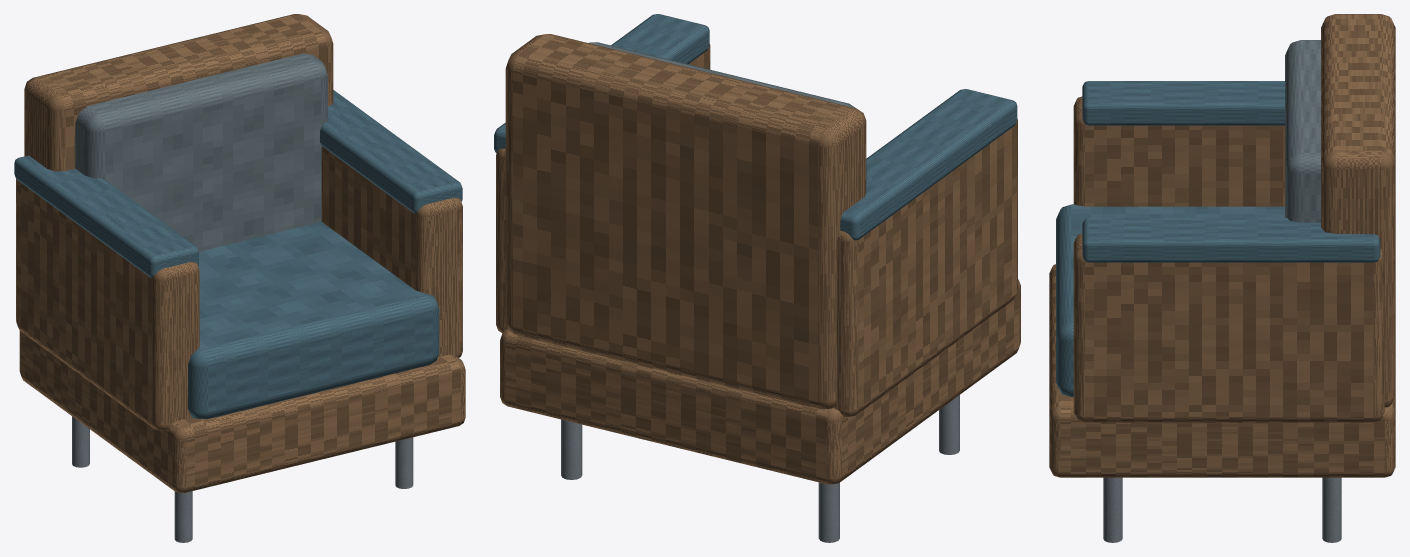
Rendered from armchair_lounge02.glb.
3 renders of one model, left to right at view 1: azimuth 30°, elevation 25°; view 2: azimuth 150°, elevation 25°; view 3: azimuth 270°, elevation 25°, orthographic. The views are drawn at different scales.
Visible parts, largest first — view 1: armrest, back_pillow, seat_cushion, seat_base, arm_pad, back_frame, feet; view 2: back_frame, seat_base, armrest, arm_pad, feet, back_pillow; view 3: armrest, arm_pad, seat_base, back_frame, back_pillow, seat_cushion, feet.
Boxes of the visible parts, <box> form: armrest: <box>16,146,462,430</box>; back_pillow: <box>75,53,327,251</box>; seat_cushion: <box>188,222,439,419</box>; seat_base: <box>19,331,465,492</box>; arm_pad: <box>14,90,462,277</box>; back_frame: <box>24,14,333,171</box>; feet: <box>72,416,413,542</box>; back_frame: <box>505,34,866,409</box>; seat_base: <box>500,279,1020,484</box>; armrest: <box>496,44,1017,416</box>; arm_pad: <box>494,14,1017,240</box>; feet: <box>561,395,959,542</box>; back_pillow: <box>589,42,855,108</box>; armrest: <box>1073,96,1384,422</box>; arm_pad: <box>1082,81,1380,262</box>; seat_base: <box>1049,264,1395,477</box>; back_frame: <box>1321,14,1395,407</box>; back_pillow: <box>1285,40,1320,222</box>; seat_cushion: <box>1056,204,1284,397</box>; feet: <box>1103,477,1341,542</box>.
Bounding box in the file's own units: 0.88 × 1 × 0.79.
Materials: 4 (4 with a texture image).
